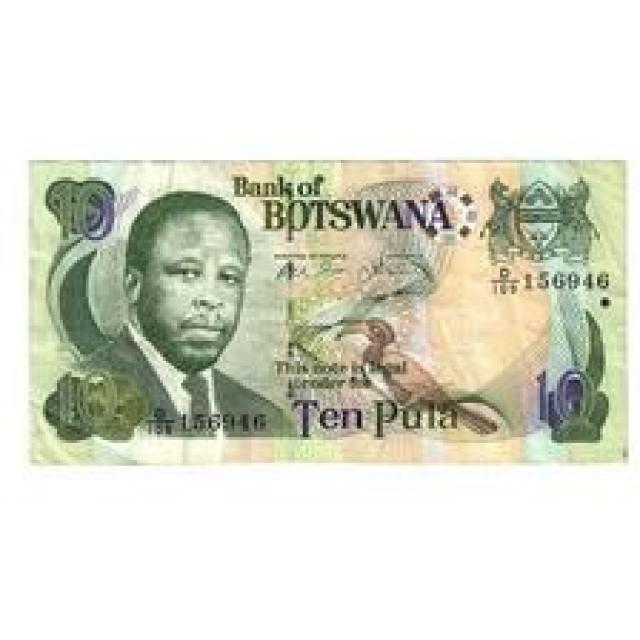banknote: (26, 157, 628, 466)
